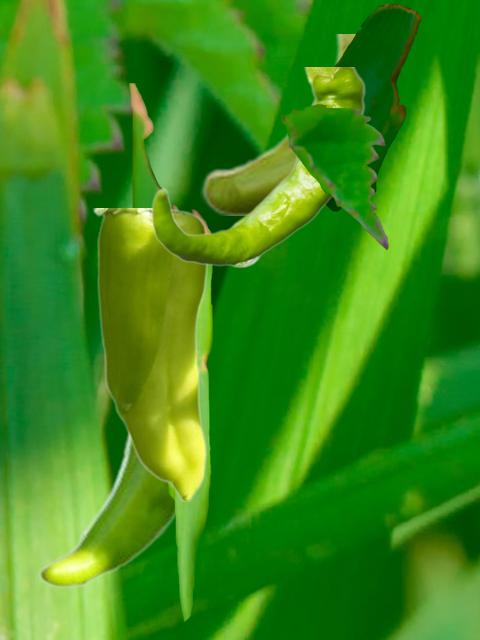green_chili: (151, 67, 365, 267), (92, 208, 206, 500), (200, 34, 354, 214), (37, 430, 174, 588)
